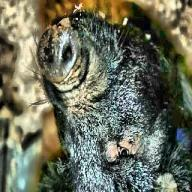boar: (30, 1, 192, 192)
